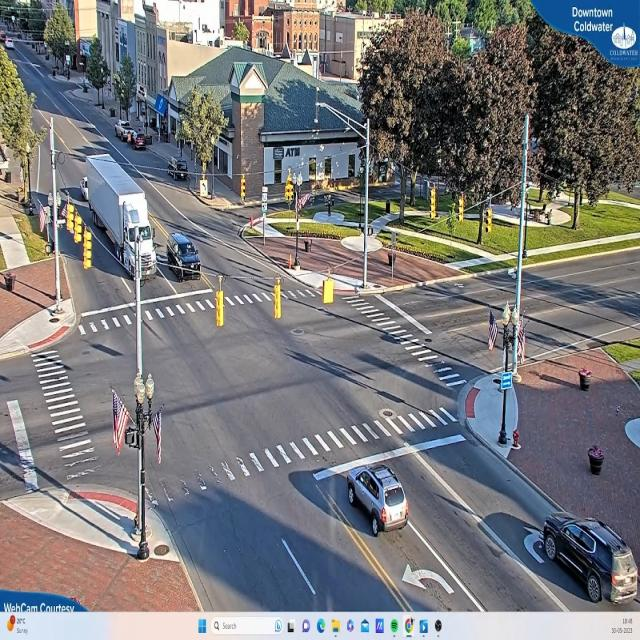car: (542, 513, 640, 603), (345, 465, 410, 537), (117, 122, 135, 142), (130, 134, 148, 150)
truck: (84, 148, 160, 301)
